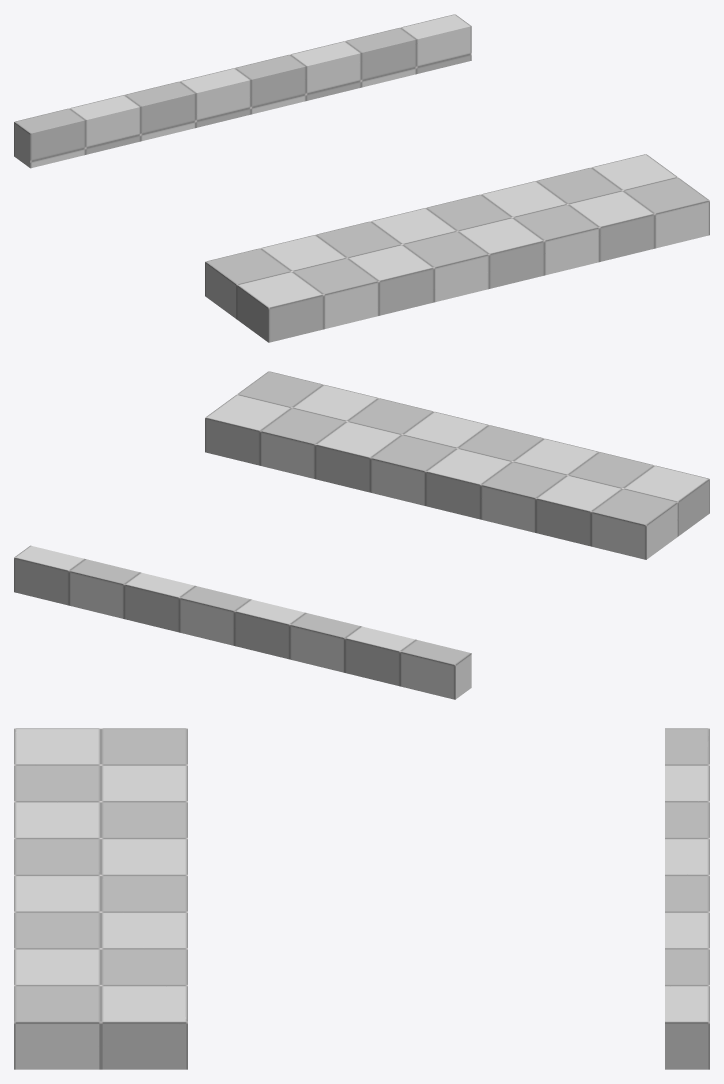
Rendered from FloorHl4x4m.fbx.
The picture shows the model from 3 angles, top to bottom: view 1: azimuth 30°, elevation 25°; view 2: azimuth 150°, elevation 25°; view 3: azimuth 270°, elevation 25°; orthographic projection. The views are drawn at different scales.
Parts seen in each view (by area): view 1: FloorHl4x4m; view 2: FloorHl4x4m; view 3: FloorHl4x4m.
Part boxes in pixels (x1=…): FloorHl4x4m: x1=14, y1=14, x2=709, y2=342; FloorHl4x4m: x1=14, y1=371, x2=709, y2=699; FloorHl4x4m: x1=14, y1=728, x2=709, y2=1069.
Bounding box in the file's own units: 400 × 400 × 30.
